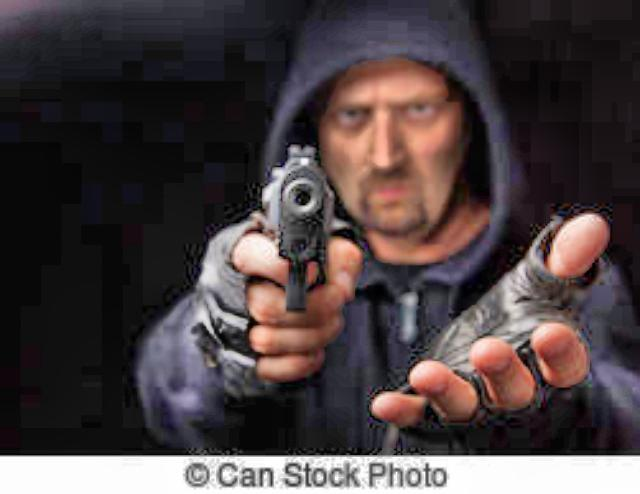pistol: (250, 136, 334, 326)
